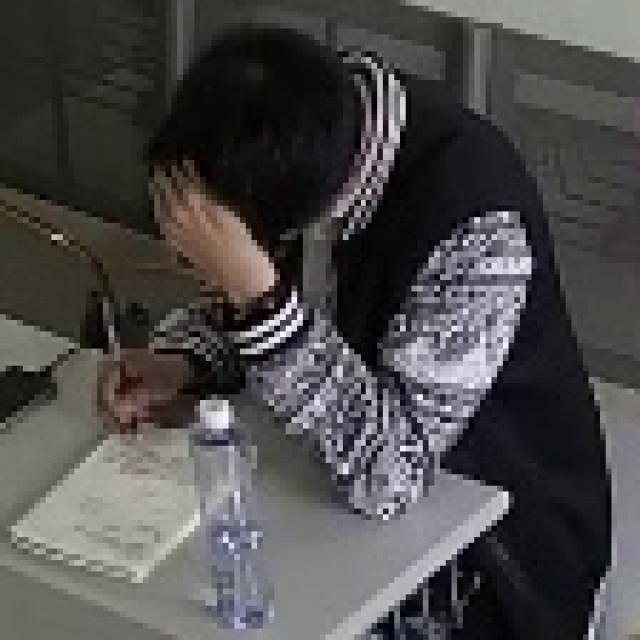write: (44, 38, 549, 582)
